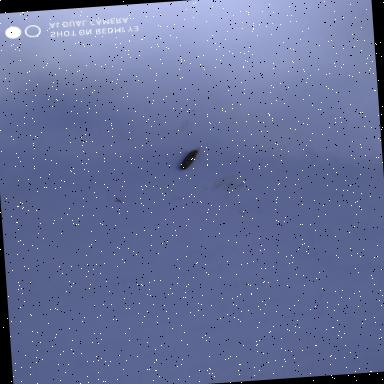pbw: (177, 148, 201, 172)
